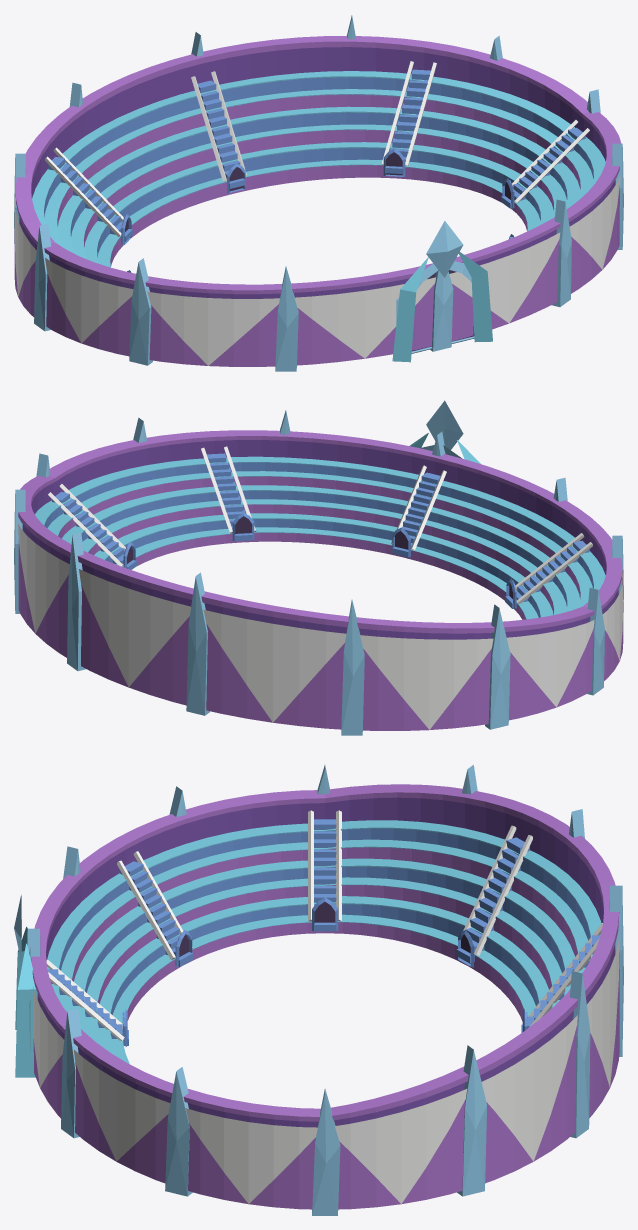
File: building.glb
3 renders of one model, top to bottom at view 1: azimuth 30°, elevation 25°; view 2: azimuth 150°, elevation 25°; view 3: azimuth 270°, elevation 25°, orthographic. The views are drawn at different scales.
Parts seen in each view (by area): view 1: 08_R2B_Stadium_GradedSeatingAndContinuousAisles; view 2: 08_R2B_Stadium_GradedSeatingAndContinuousAisles; view 3: 08_R2B_Stadium_GradedSeatingAndContinuousAisles.
Part boxes in pixels (bbox=[...]): 08_R2B_Stadium_GradedSeatingAndContinuousAisles: bbox=[14, 15, 623, 371]; 08_R2B_Stadium_GradedSeatingAndContinuousAisles: bbox=[14, 400, 623, 735]; 08_R2B_Stadium_GradedSeatingAndContinuousAisles: bbox=[14, 765, 623, 1215].
Size of the model in its own units: 1.53 by 0.357 by 1.19.
